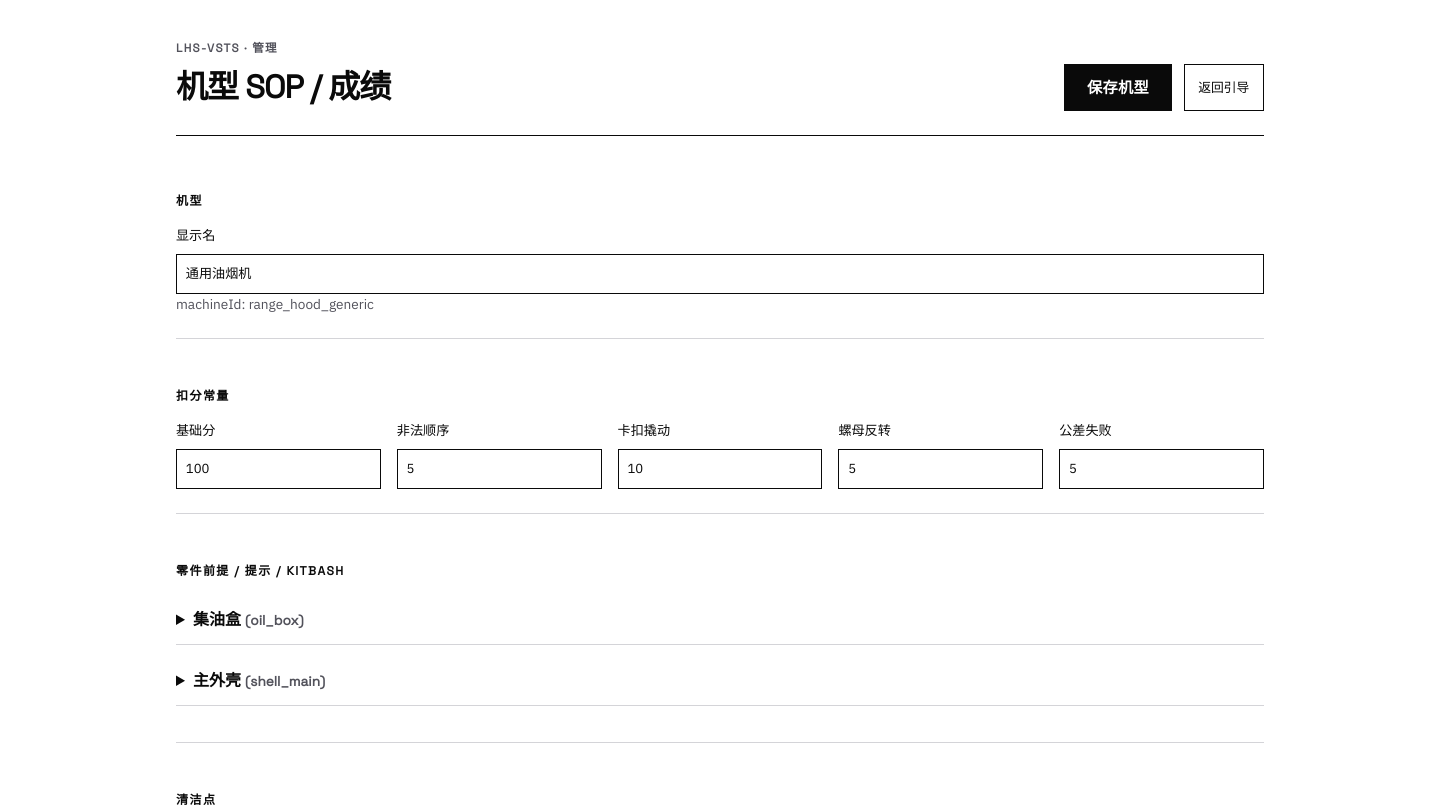
Test: AdminPage shows save error
Expected: the field showing "通用油烟机" is shown, [176,254,1264,294]
Click the button "保存机型": [1118, 87] box [1064,64,1172,111]
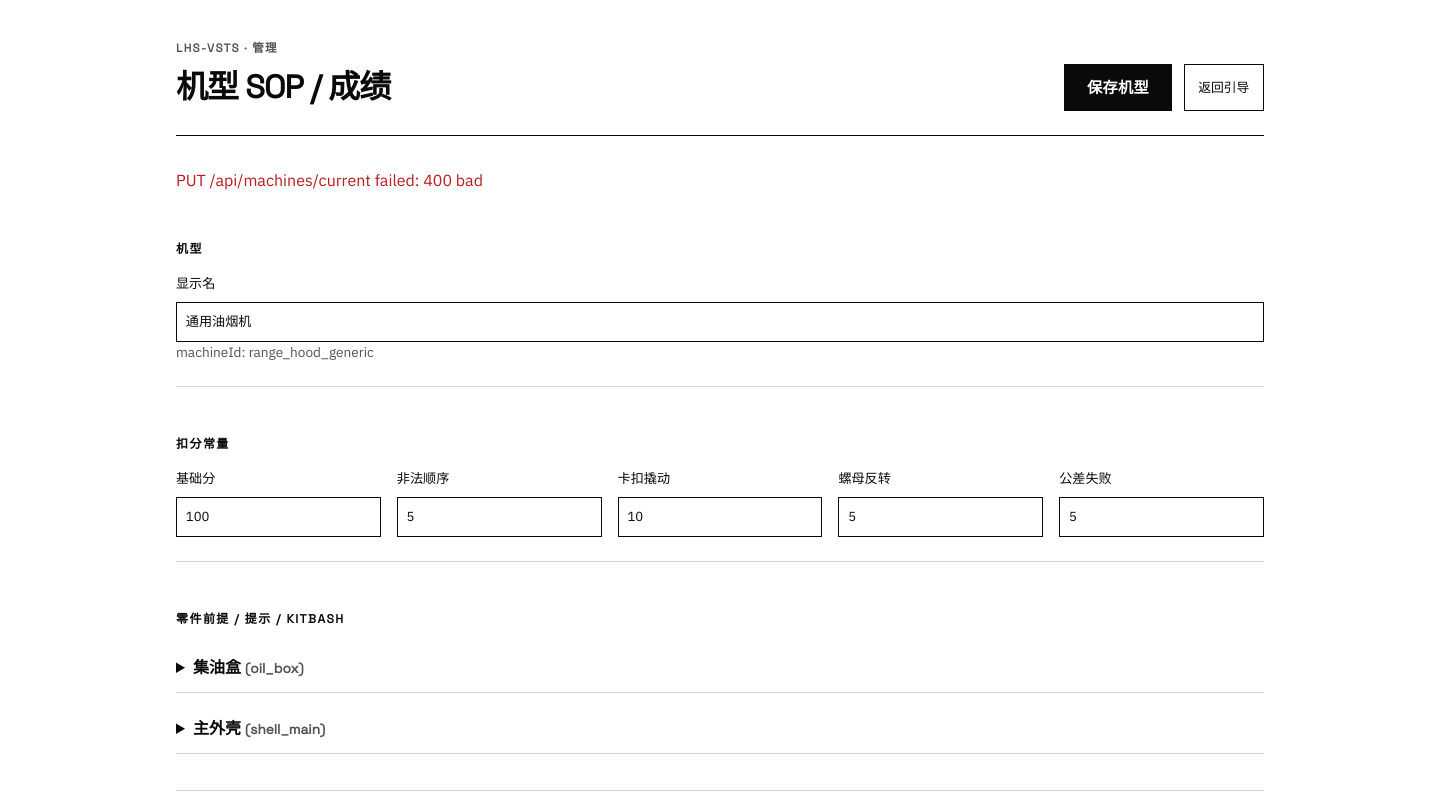
Expected: the message "PUT /api/machines/current failed: 400 bad" is shown, [176,170,483,190]
